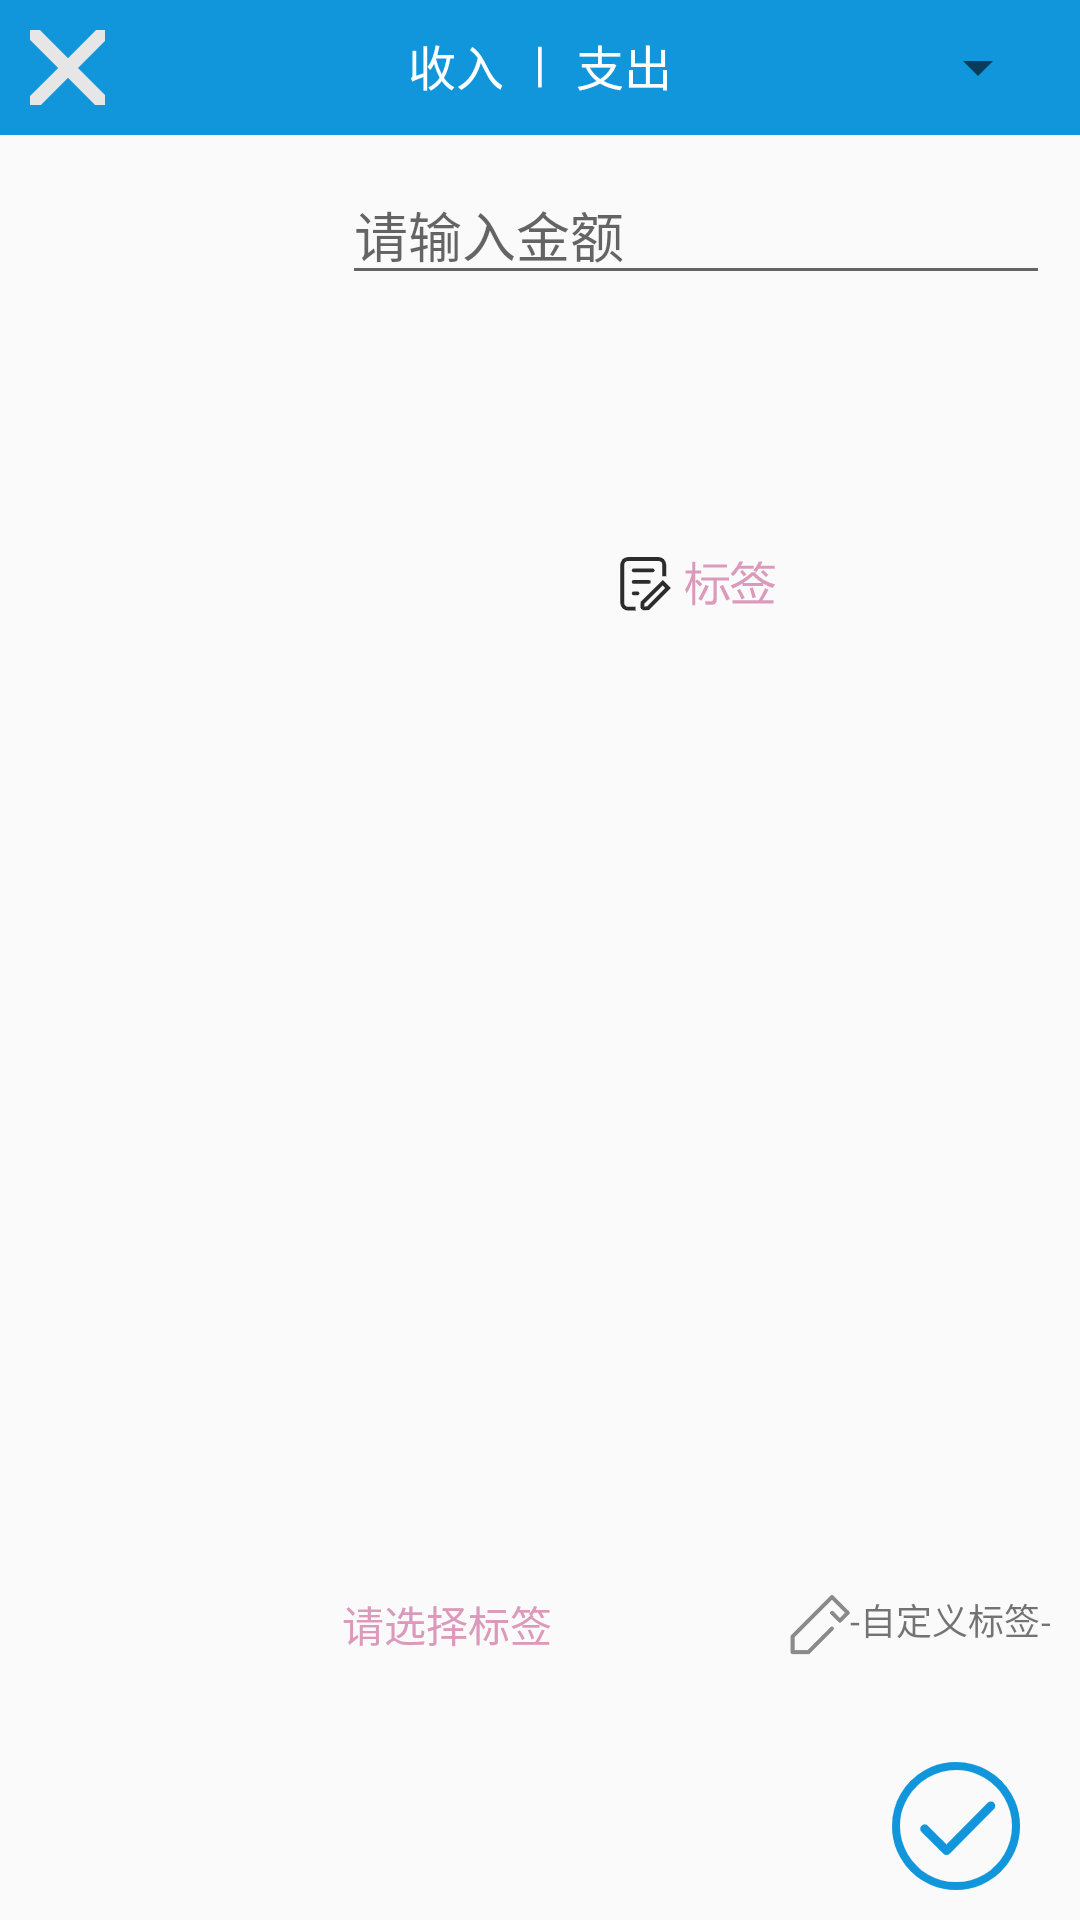

Icon bounding boxes for this 1080px x 1920px phone screenshot, format box=[x1, y1, x2, y2]:
close: box=[30, 30, 105, 105]
